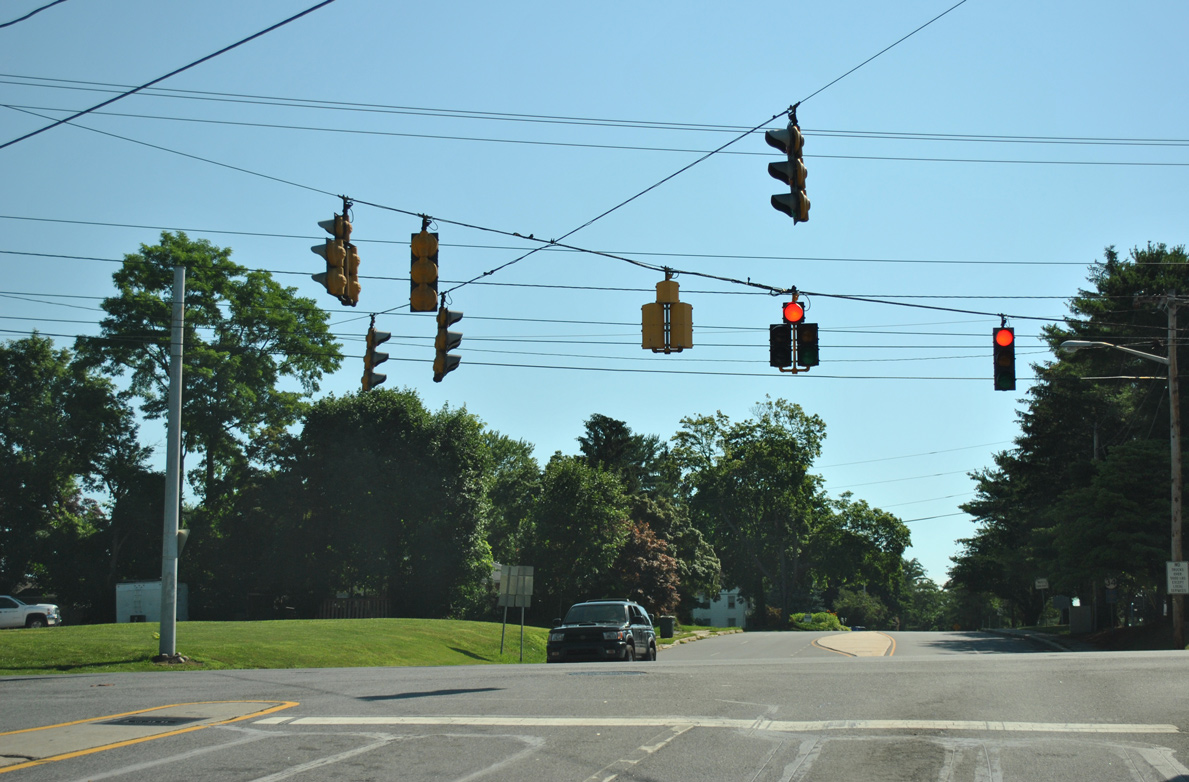traffic_light: (767, 300, 822, 370), (990, 326, 1019, 393)
